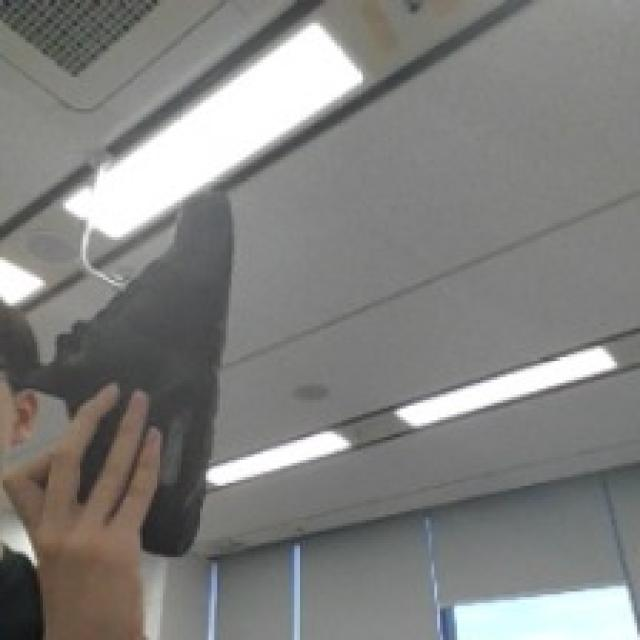shoe: (46, 178, 264, 523)
